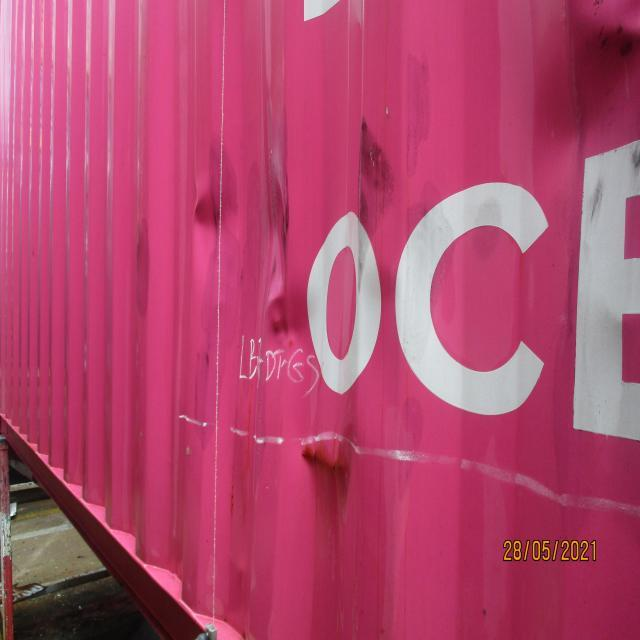Dent: (170, 82, 468, 370), (459, 0, 639, 216), (275, 385, 465, 523)
